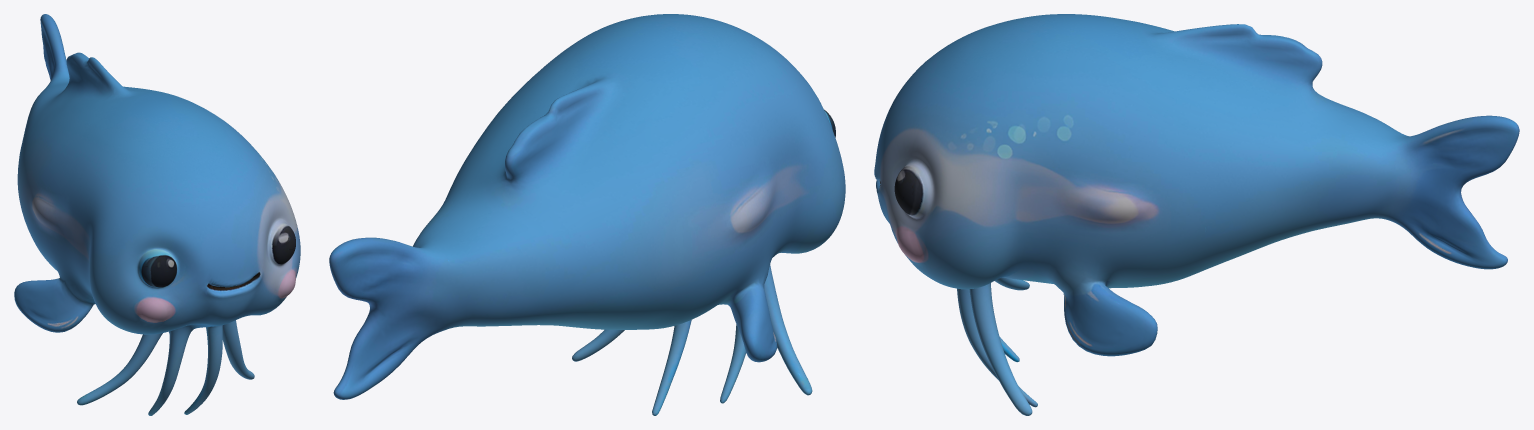
File: SK_Charcater_06a.fbx
The picture shows the model from 3 angles, left to right: view 1: azimuth 30°, elevation 25°; view 2: azimuth 150°, elevation 25°; view 3: azimuth 270°, elevation 25°; orthographic projection. The views are drawn at different scales.
Parts seen in each view (by area): view 1: SK_Charcater_06a; view 2: SK_Charcater_06a; view 3: SK_Charcater_06a.
Part boxes in pixels (x1=…): SK_Charcater_06a: x1=14, y1=14, x2=300, y2=415; SK_Charcater_06a: x1=329, y1=14, x2=845, y2=415; SK_Charcater_06a: x1=874, y1=14, x2=1519, y2=415.
Bounding box in the file's own units: 57.77 × 113 × 72.87.
